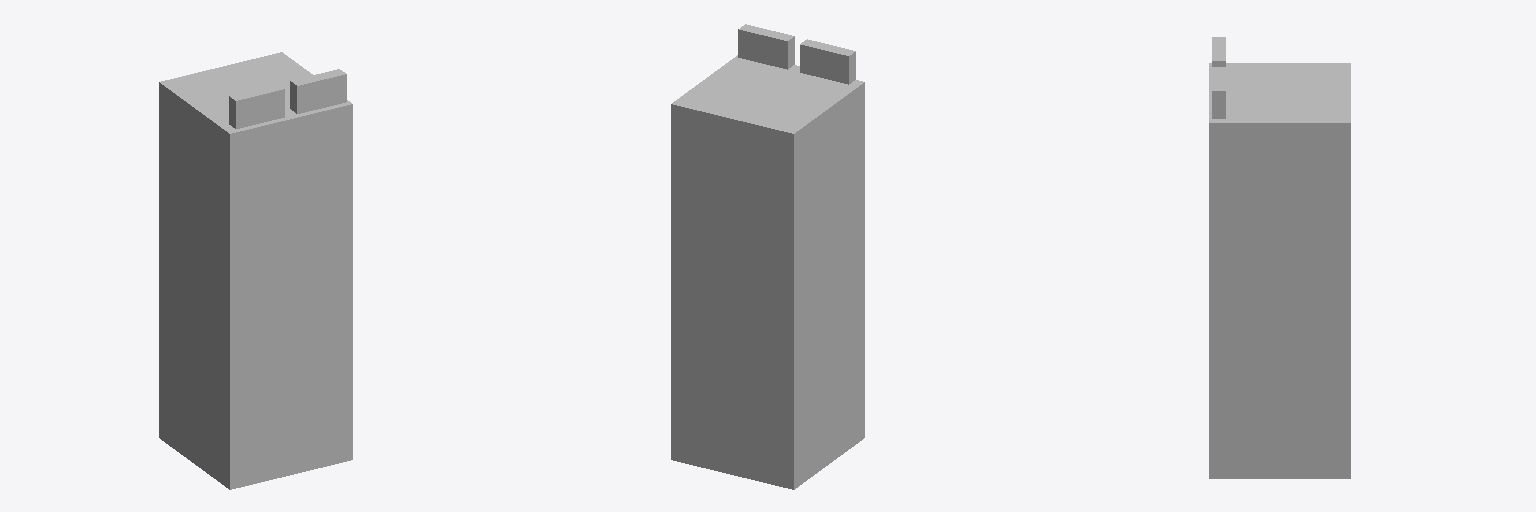
Rendered from full_wall1.obj.
3 views of the same model, side by side, from view 1: azimuth 30°, elevation 25°; view 2: azimuth 150°, elevation 25°; view 3: azimuth 270°, elevation 25° (orthographic).
Visible parts, largest first — view 1: Middle; view 2: Middle; view 3: Middle.
Boxes of the visible parts, x1,y1,x2,y2 form: Middle: [159, 52, 352, 489]; Middle: [671, 24, 864, 489]; Middle: [1209, 37, 1350, 478].
Size of the model in its own units: 50 by 150 by 50.